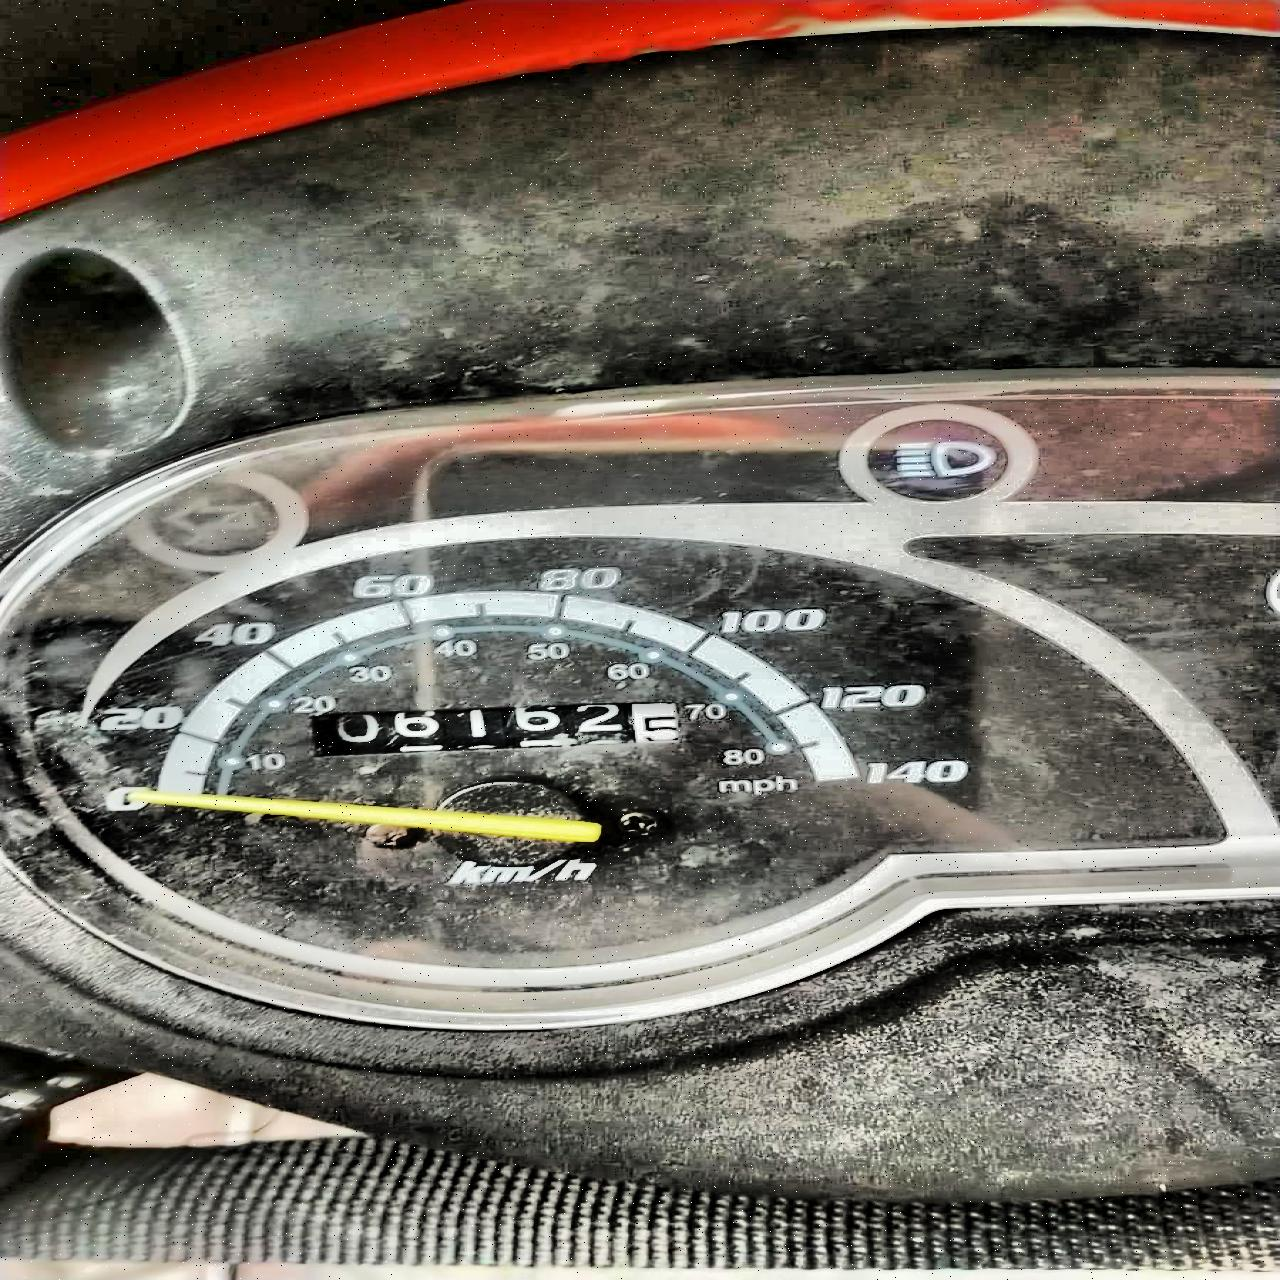0: (331, 713, 383, 748), (312, 695, 333, 712)
1: (455, 706, 492, 742)
2: (576, 702, 624, 738), (292, 696, 312, 715)
5: (638, 713, 678, 747)
6: (510, 702, 564, 738), (390, 704, 442, 741)
odometer: (302, 701, 689, 757)
